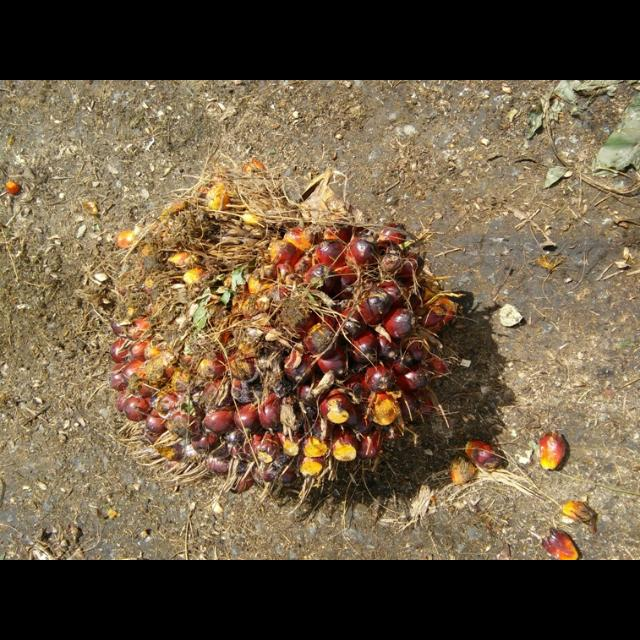Ripe: (108, 161, 461, 495)
